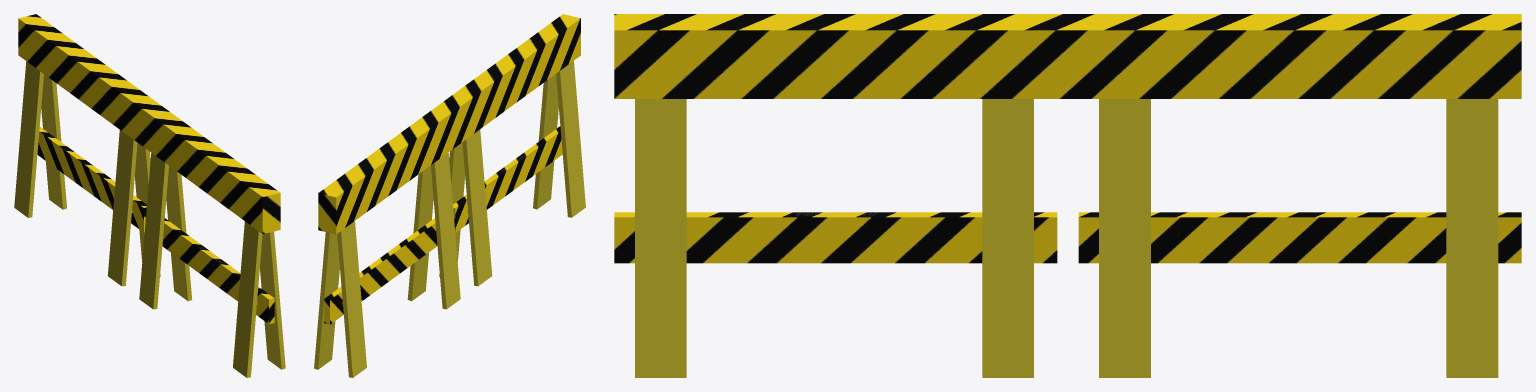
Rendered from barrier_2.fbx.
3 views of the same model, side by side, from view 1: azimuth 30°, elevation 25°; view 2: azimuth 150°, elevation 25°; view 3: azimuth 270°, elevation 25° (orthographic). The views are drawn at different scales.
Visible parts, largest first — view 1: Cube.002; view 2: Cube.002; view 3: Cube.002.
Part boxes in pixels (left/top/right/bottom): Cube.002: left=14, top=14, right=285, bottom=377; Cube.002: left=314, top=14, right=585, bottom=377; Cube.002: left=614, top=14, right=1521, bottom=377.
Size of the model in its own units: 56.91 by 255 by 618.
Materials: 3 (2 with a texture image).
